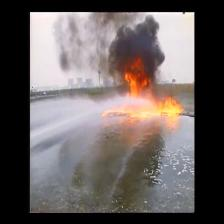fire: (113, 26, 158, 64), (157, 100, 184, 120)
smoke: (126, 76, 150, 98)
